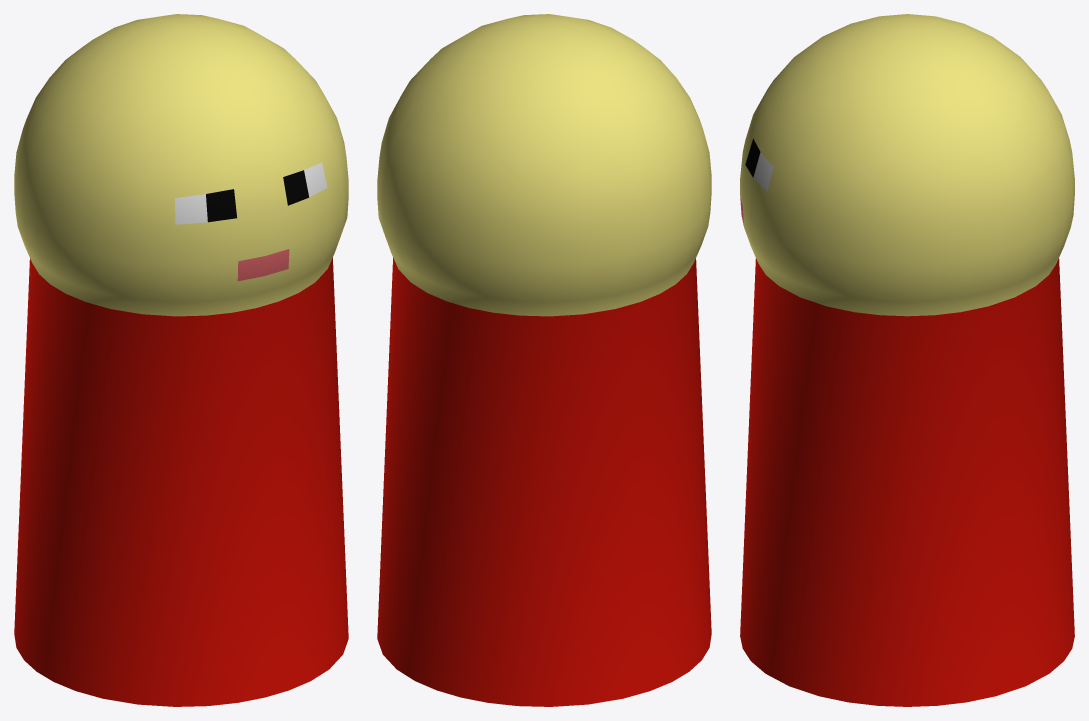
File: ProtoMan.fbx
3 renders of one model, left to right at view 1: azimuth 30°, elevation 25°; view 2: azimuth 150°, elevation 25°; view 3: azimuth 270°, elevation 25°, orthographic.
Parts seen in each view (by area): view 1: Roundcube; view 2: Roundcube; view 3: Roundcube.
Boxes of the visible parts, x1=… form: Roundcube: x1=14, y1=14, x2=348, y2=706; Roundcube: x1=377, y1=14, x2=711, y2=706; Roundcube: x1=740, y1=14, x2=1074, y2=706.
Bounding box in the file's own units: 100 × 200 × 100.
